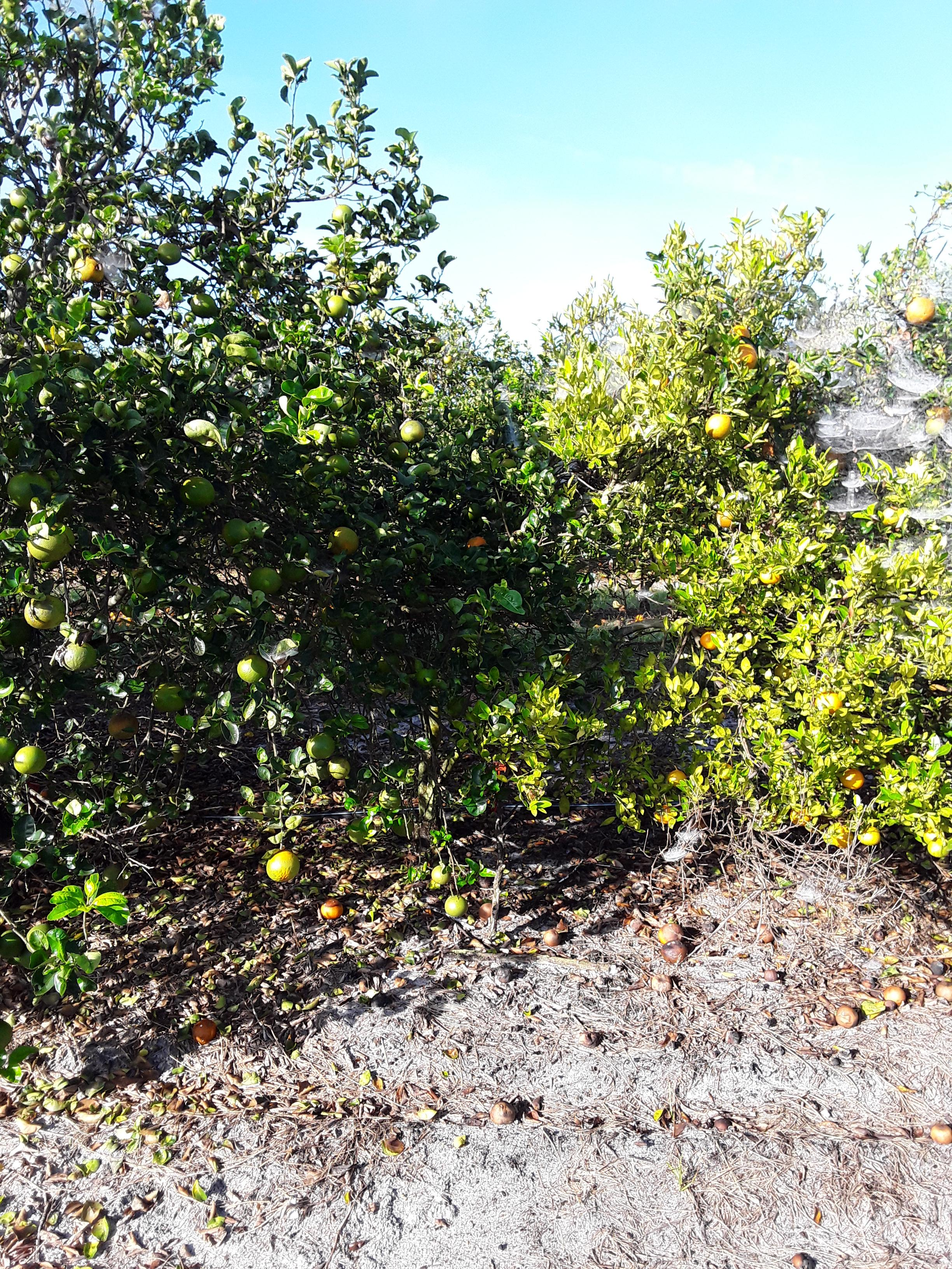fruit_on_ground: (23, 516, 76, 563), (5, 468, 54, 512), (20, 589, 68, 633), (264, 846, 303, 885), (177, 474, 218, 510), (0, 612, 37, 649), (12, 741, 51, 776), (235, 650, 272, 686), (59, 641, 99, 674), (326, 523, 362, 558), (127, 563, 164, 597), (245, 564, 282, 598), (151, 680, 187, 714), (98, 861, 132, 895), (106, 709, 140, 743), (903, 294, 938, 327), (302, 729, 337, 760), (1, 250, 32, 283), (921, 404, 951, 437), (219, 516, 252, 546), (726, 342, 759, 372), (72, 255, 105, 285), (322, 752, 354, 782), (811, 688, 845, 716), (189, 290, 220, 320), (124, 290, 156, 319), (280, 558, 313, 586), (704, 411, 734, 441), (827, 823, 857, 852), (113, 314, 143, 342), (387, 812, 418, 839), (0, 929, 26, 961), (322, 292, 350, 320), (155, 239, 184, 266), (714, 503, 742, 530), (328, 201, 357, 227), (327, 388, 355, 414), (334, 423, 362, 449), (698, 627, 726, 653), (839, 766, 867, 792), (324, 453, 353, 478), (787, 804, 816, 829), (375, 787, 404, 812), (652, 801, 678, 827), (340, 283, 367, 308), (399, 418, 426, 443), (443, 893, 469, 918), (858, 823, 883, 849), (91, 298, 118, 322), (5, 212, 32, 236), (385, 439, 411, 463), (757, 564, 784, 587), (161, 742, 186, 766), (7, 185, 30, 210), (0, 1013, 14, 1054), (648, 580, 671, 604), (664, 767, 689, 789), (646, 372, 672, 393), (773, 660, 797, 682), (726, 323, 751, 344), (0, 734, 17, 764), (430, 863, 453, 885), (464, 533, 489, 550), (423, 336, 443, 353), (442, 354, 452, 365)
fruit_on_tree: (189, 1014, 219, 1047), (487, 1099, 516, 1127), (318, 895, 346, 923), (658, 941, 689, 965), (833, 1003, 860, 1030), (881, 982, 908, 1007), (656, 922, 685, 945), (648, 972, 674, 995), (930, 1120, 952, 1146), (789, 1251, 820, 1269), (628, 918, 651, 940), (711, 1113, 732, 1134), (477, 900, 498, 921), (933, 980, 952, 1003), (578, 1030, 600, 1049), (756, 925, 775, 945), (542, 928, 561, 947), (760, 967, 780, 985)
